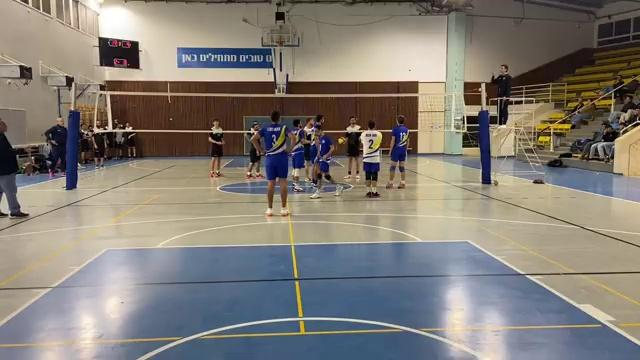ball: (336, 136, 349, 147)
